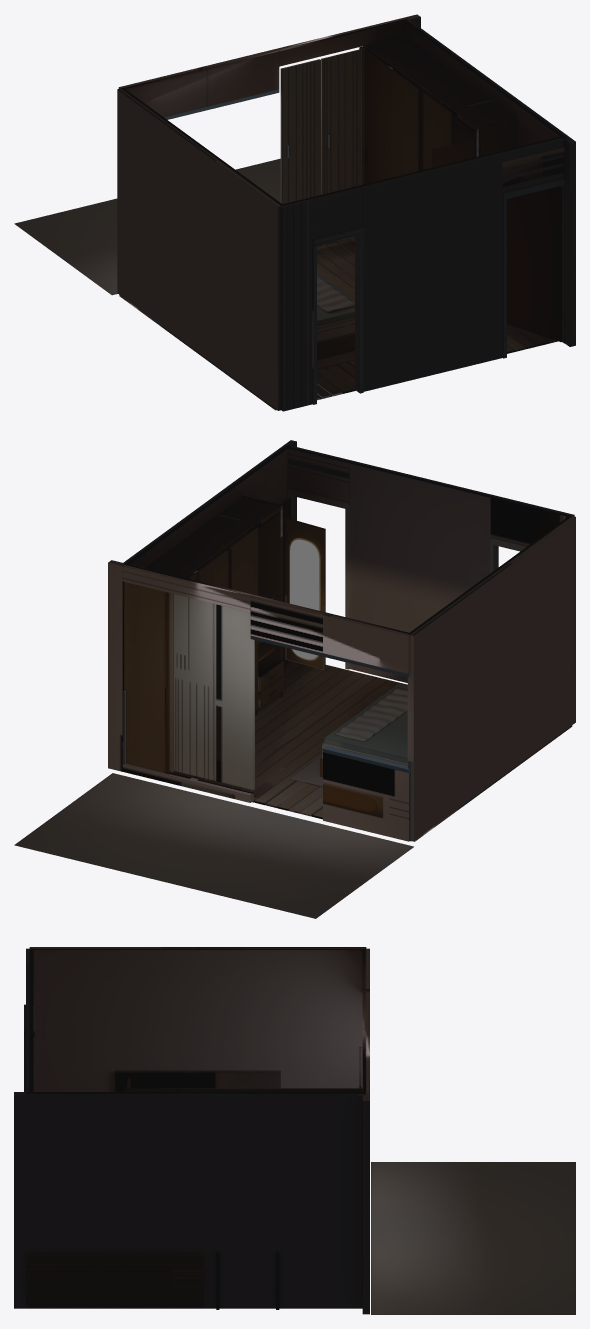
Rendered from A501-bedroom3-baked.glb.
3 renders of one model, top to bottom at view 1: azimuth 30°, elevation 25°; view 2: azimuth 150°, elevation 25°; view 3: azimuth 270°, elevation 25°, orthographic. The views are drawn at different scales.
Visible parts, largest first — view 1: Element 1, Element 56, Element 447, Element 58, Bedroom 3 balcony stone, Element 78, Element 373, Element 375, Element 455, Element 466, Element 61, Element 463 (+16 smaller); view 2: Element 1, Bedroom 3 balcony stone, Element 56, Element 457, Element 373, Element 375, Element 64, Element 78, Element 455, Element 65, Element 76, Element 61 (+22 smaller); view 3: Element 78, Element 1, Bedroom 3 balcony stone, Element 552, Element 427, Element 76, Element 455, Element 56, Element 60.
Part boxes in pixels (box(x1,y1,x2,y2)): Element 1: box(117, 88, 283, 410); Element 56: box(359, 151, 502, 391); Element 447: box(507, 186, 561, 341); Element 58: box(280, 198, 312, 411); Bedroom 3 balcony stone: box(14, 158, 280, 295); Element 78: box(402, 19, 575, 346); Element 373: box(321, 49, 361, 194); Element 375: box(280, 59, 320, 204); Element 455: box(363, 37, 513, 132); Element 466: box(365, 49, 393, 183); Element 61: box(204, 49, 279, 106); Element 463: box(389, 69, 421, 177); Element 1: box(407, 515, 575, 840); Bedroom 3 balcony stone: box(14, 773, 413, 918); Element 56: box(349, 461, 493, 682); Element 457: box(124, 582, 166, 772); Element 373: box(173, 594, 214, 780); Element 375: box(214, 604, 254, 790); Element 64: box(323, 752, 409, 841); Element 78: box(123, 440, 296, 567); Element 455: box(146, 497, 282, 592); Element 65: box(323, 612, 410, 673); Element 76: box(108, 560, 125, 771); Element 61: box(250, 595, 325, 652); Element 78: box(14, 1092, 365, 1308); Element 1: box(29, 947, 366, 1091); Bedroom 3 balcony stone: box(371, 1162, 575, 1314); Element 552: box(27, 1254, 202, 1306); Element 427: box(115, 1071, 280, 1091); Element 76: box(362, 1093, 369, 1314); Element 455: box(128, 1088, 362, 1091); Element 56: box(26, 989, 33, 1060); Element 60: box(362, 1029, 369, 1093).
Bounding box in the file's own units: 4.22 × 2.74 × 6.44.
Materials: 7 (2 with a texture image).
